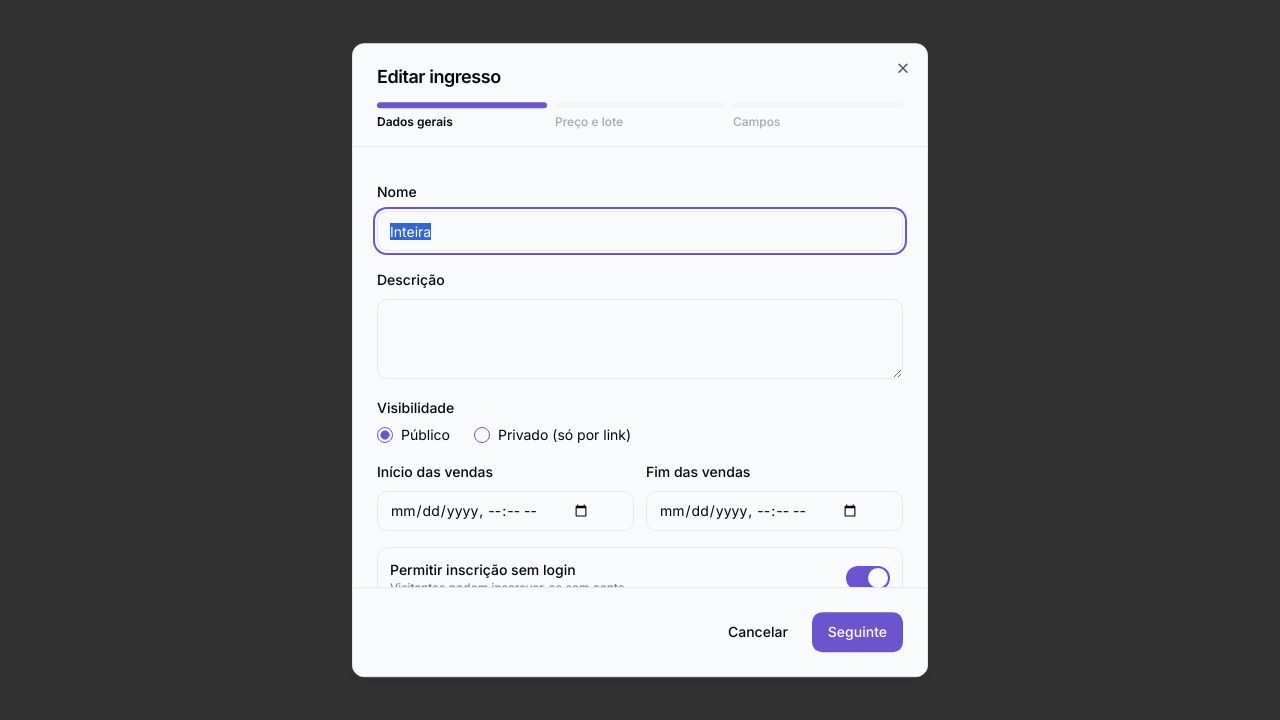
it: TicketTypeWizardDialog › mínimo por pedido maior que o máximo bloqueia o passo 2 com mensagem
This screenshot has width=1280, height=720.
Expected: the field labelled "Nome" holds "Inteira", top-left (377, 211), bottom-right (903, 251)
Click the button "Seguinte". click: (857, 632)
box: top-left (812, 612), bottom-right (903, 652)
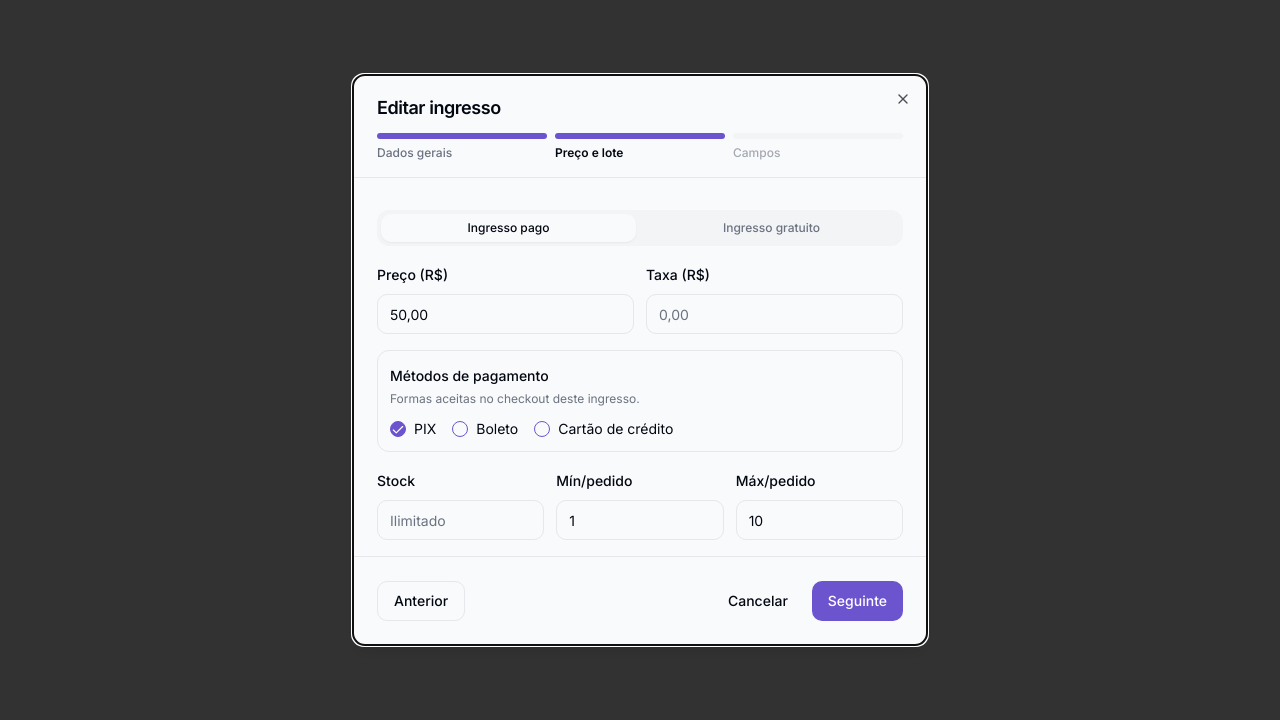
Replace the text in the number field labelled "Mín/pedido" with "5". click: (640, 520)
box: top-left (556, 500), bottom-right (724, 540)
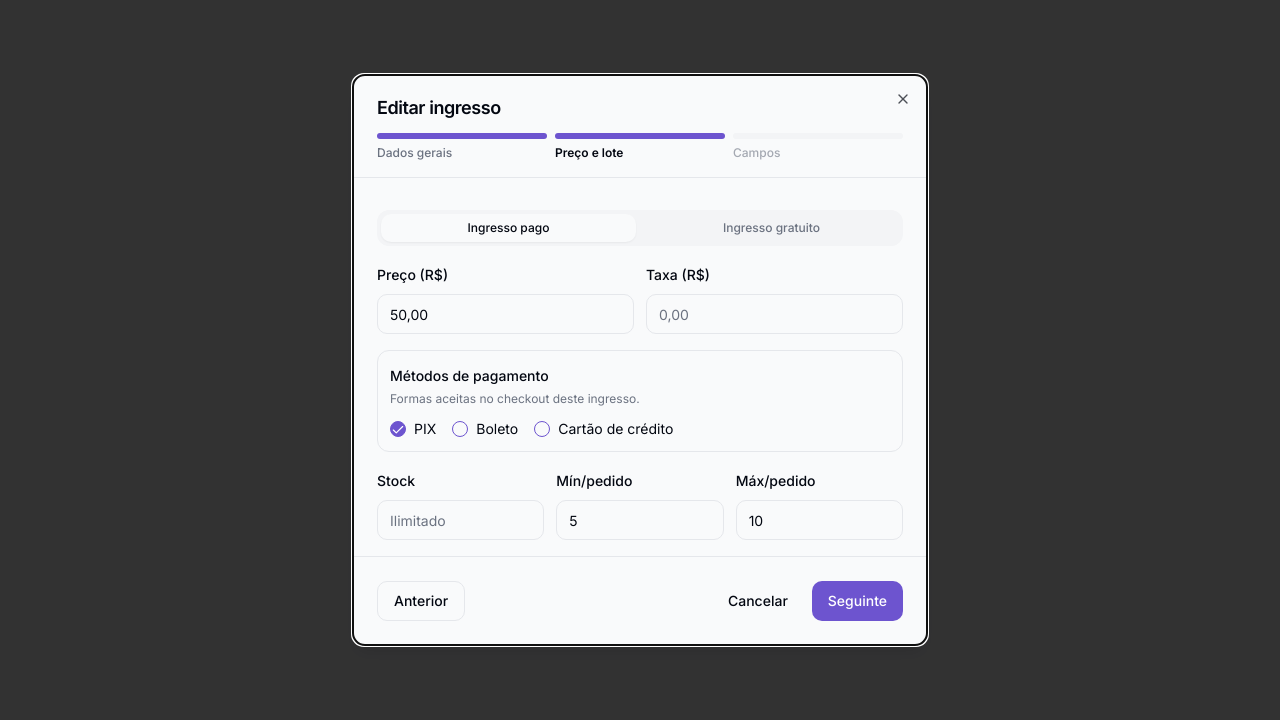
Replace the text in the number field labelled "Máx/pedido" with "2". click: (819, 520)
box: top-left (736, 500), bottom-right (903, 540)
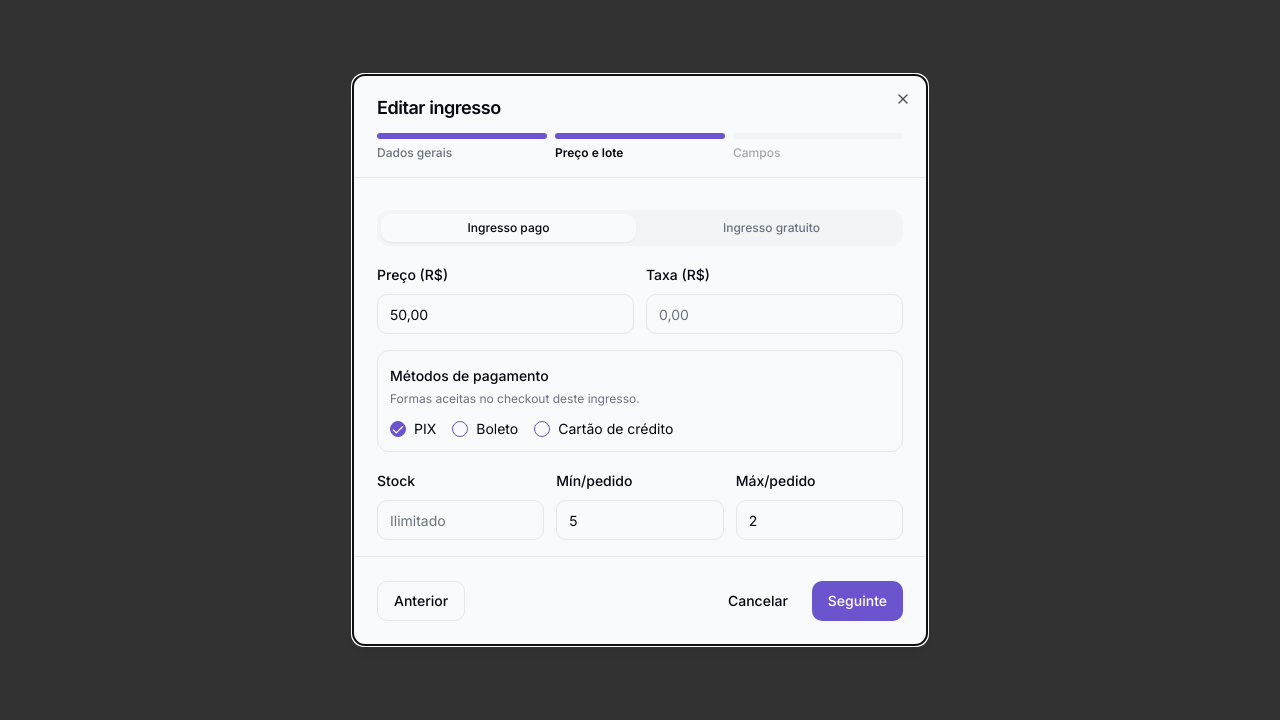
Click the button "Seguinte". click: (857, 601)
box: top-left (812, 581), bottom-right (903, 621)
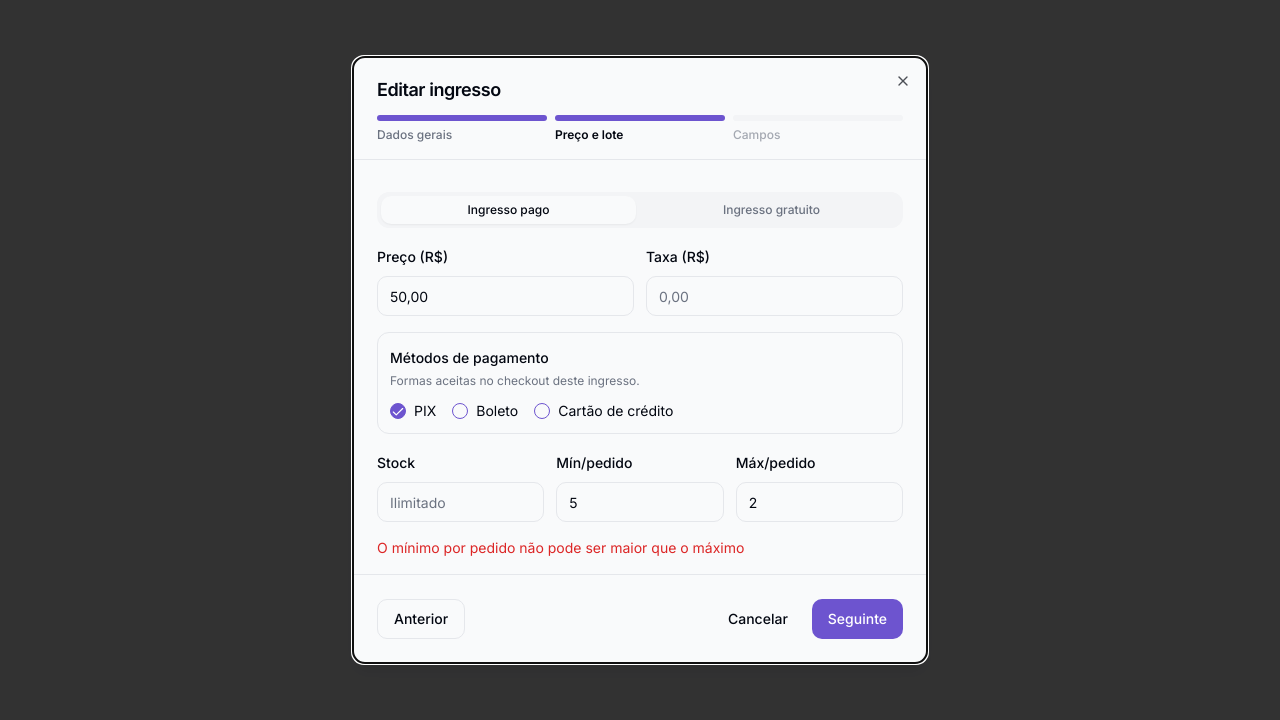
Now the text "O mínimo por pedido não pode ser maior que o máximo" is shown, box top-left (377, 539), bottom-right (744, 556)
